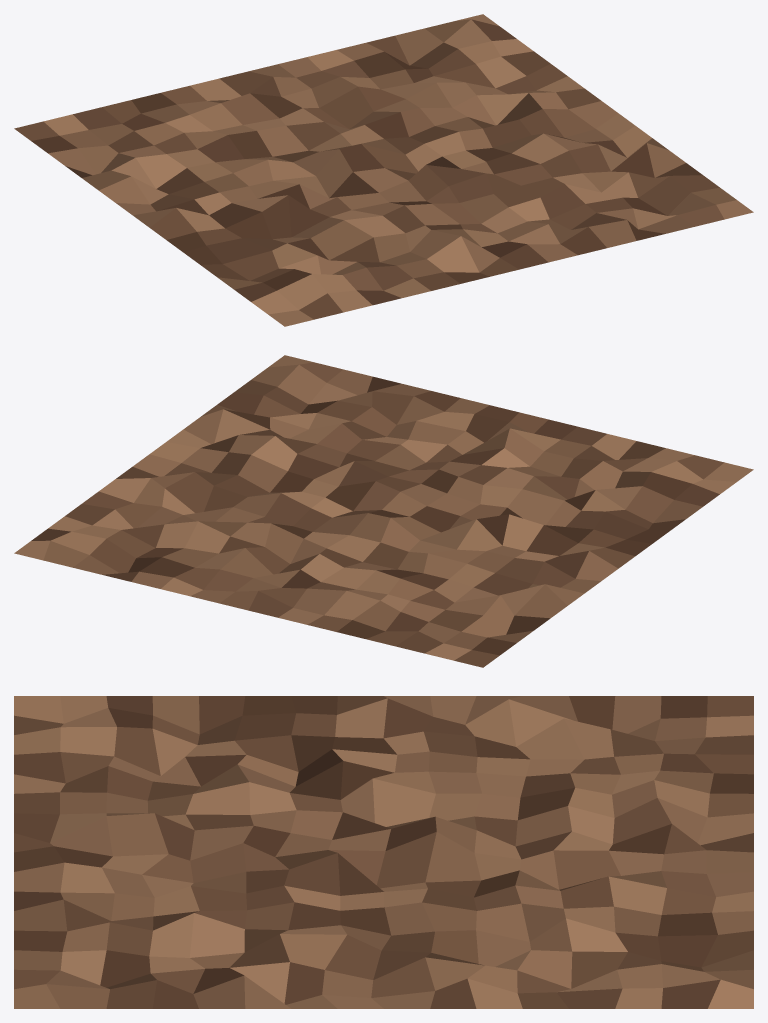
Rendered from dirt.glb.
3 views of the same model, one above another, from view 1: azimuth 30°, elevation 25°; view 2: azimuth 150°, elevation 25°; view 3: azimuth 270°, elevation 25° (orthographic). The views are drawn at different scales.
Parts seen in each view (by area): view 1: dirt; view 2: dirt; view 3: dirt.
Boxes of the visible parts, <box> form: dirt: <box>14,14,753,326</box>; dirt: <box>14,355,753,667</box>; dirt: <box>14,696,753,1008</box>.
Size of the model in its own units: 4 by 0.2649 by 4.
